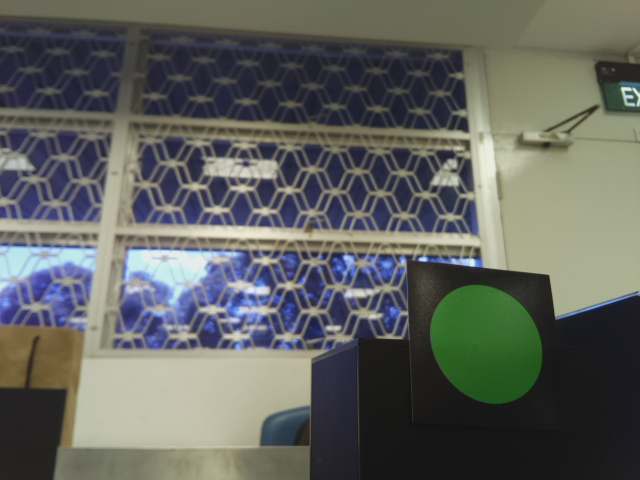go: (422, 277, 547, 413)
